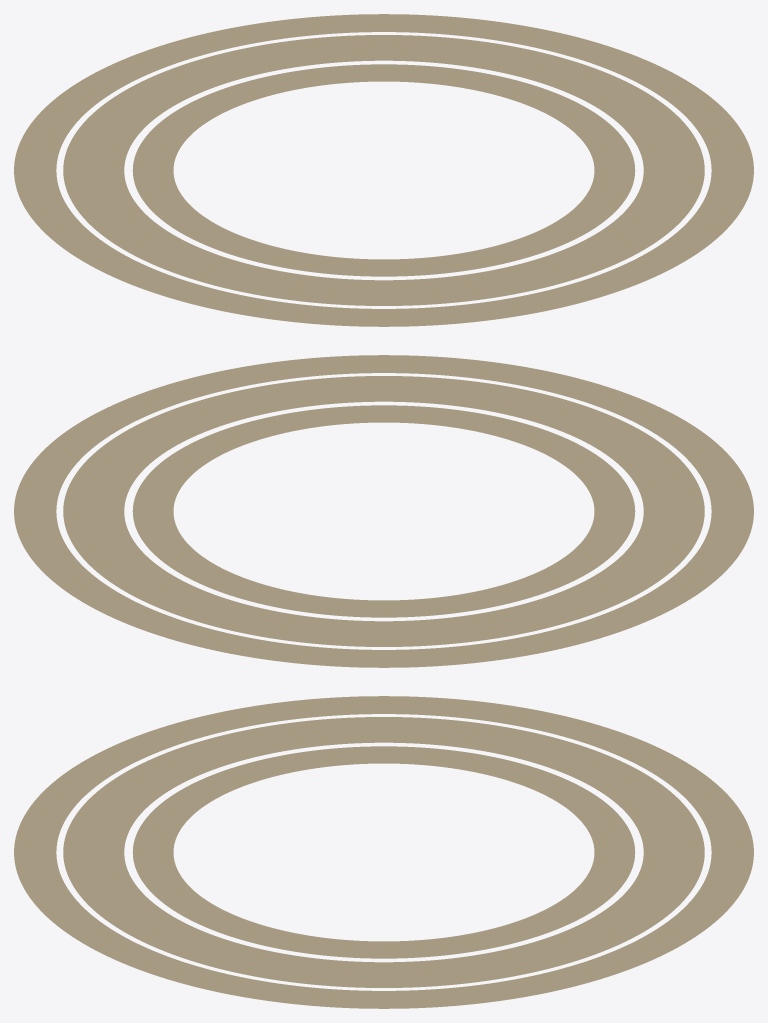
Rendered from Saturn_Rings.glb.
3 renders of one model, top to bottom at view 1: azimuth 30°, elevation 25°; view 2: azimuth 150°, elevation 25°; view 3: azimuth 270°, elevation 25°, orthographic.
Visible parts, largest first — view 1: Saturn_RingBand_1, Saturn_RingBand_2, Saturn_RingBand_0; view 2: Saturn_RingBand_1, Saturn_RingBand_2, Saturn_RingBand_0; view 3: Saturn_RingBand_1, Saturn_RingBand_2, Saturn_RingBand_0.
Boxes of the visible parts, left/top/right/bottom form: Saturn_RingBand_1: left=63, top=35, right=704, bottom=305; Saturn_RingBand_2: left=14, top=14, right=753, bottom=326; Saturn_RingBand_0: left=132, top=64, right=635, bottom=276; Saturn_RingBand_1: left=63, top=376, right=704, bottom=646; Saturn_RingBand_2: left=14, top=355, right=753, bottom=667; Saturn_RingBand_0: left=132, top=405, right=635, bottom=617; Saturn_RingBand_1: left=63, top=717, right=704, bottom=987; Saturn_RingBand_2: left=14, top=696, right=753, bottom=1008; Saturn_RingBand_0: left=132, top=746, right=635, bottom=958.
Size of the model in its own units: 4.36 by 0 by 4.36.
